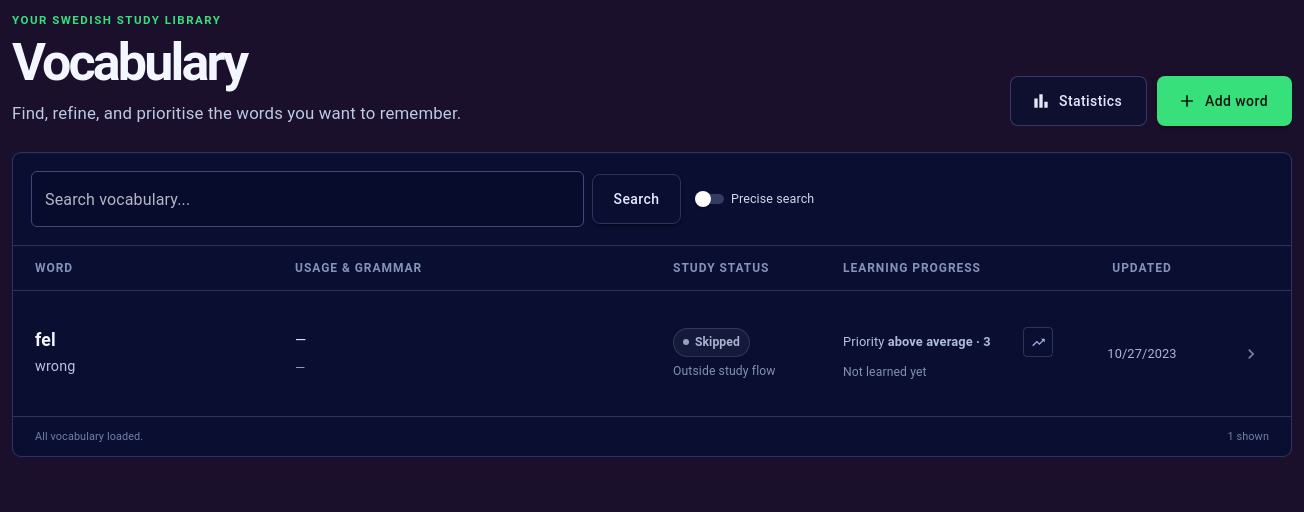
it: VocabularyView › shows an error message when boost update fails
Step 1. Click the button named "Boost priority for fel" → (1038, 342), box [1023,327,1053,357]
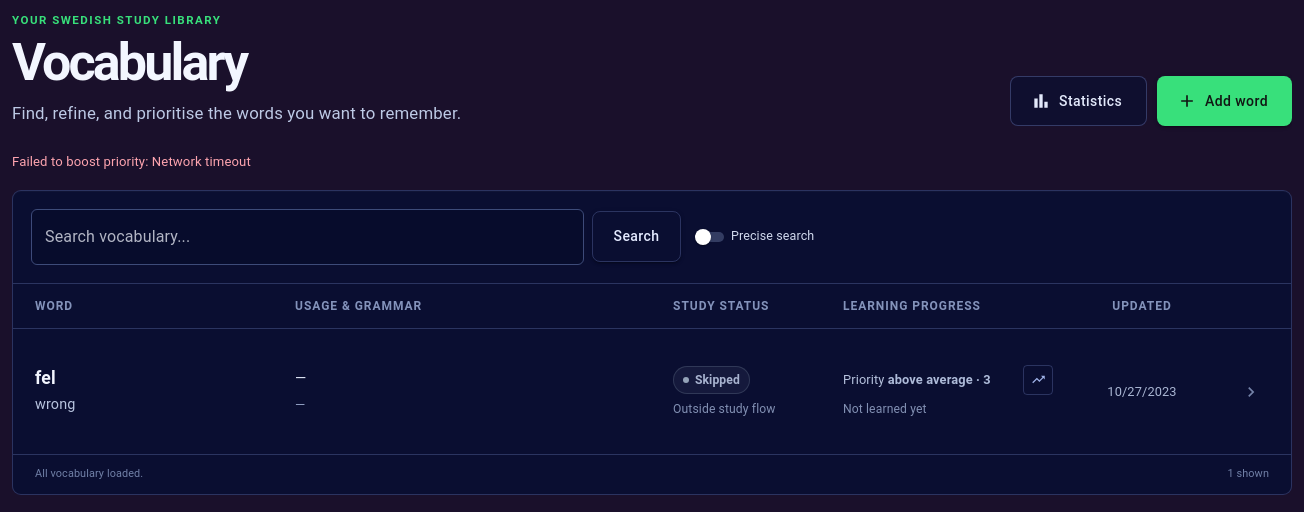
Check: the text "Failed to boost priority: Network timeout" is shown, box [12,154,251,169]
